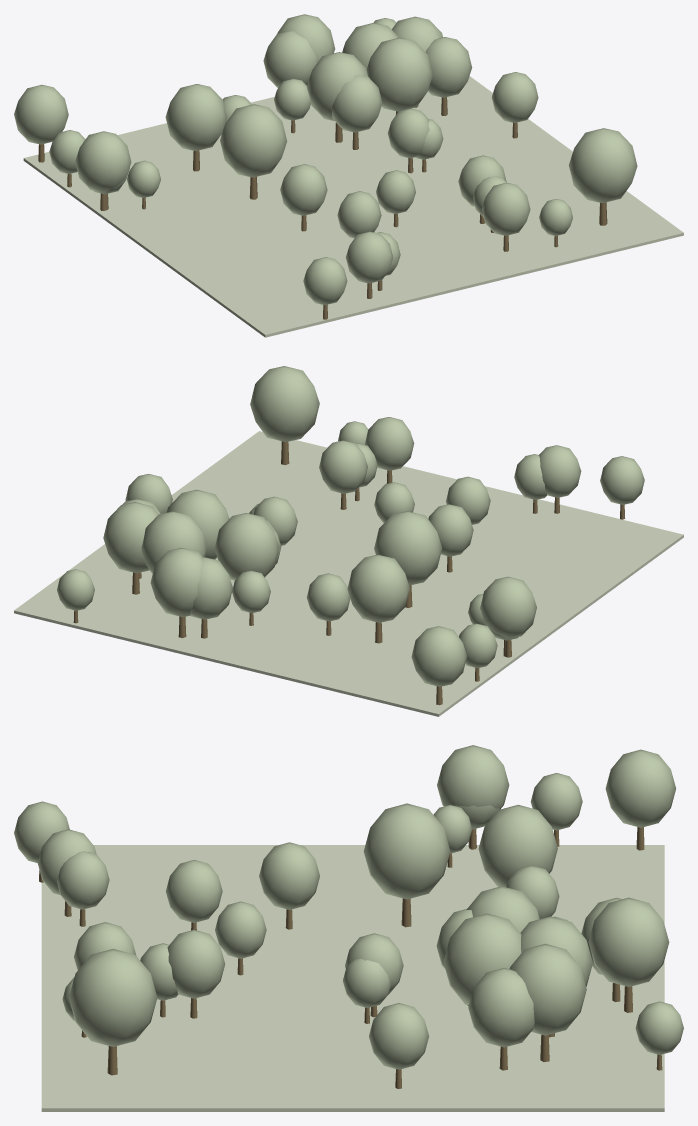
3 renders of one model, top to bottom at view 1: azimuth 30°, elevation 25°; view 2: azimuth 150°, elevation 25°; view 3: azimuth 270°, elevation 25°, orthographic. The views are drawn at different scales.
Visible parts, largest first — view 1: terrain, lod-near-20, lod-near-2, lod-near-6, lod-near-15, lod-near-27, lod-near-9, lod-near-7, lod-near-26, lod-near-0, lod-near-18, lod-near-25 (+17 smaller); view 2: terrain, lod-near-20, lod-near-2, lod-near-15, lod-near-7, lod-near-3, lod-near-27, lod-near-13, lod-near-9, lod-near-14, lod-near-31, lod-near-25 (+15 smaller); view 3: terrain, lod-near-20, lod-near-2, lod-near-3, lod-near-13, lod-near-15, lod-near-6, lod-near-9, lod-near-18, lod-near-27, lod-near-23, lod-near-11 (+18 smaller).
Part boxes in pixels (box(x1,y1,x2,y2)): terrain: box(23, 76, 683, 337); lod-near-20: box(568, 128, 637, 202); lod-near-2: box(220, 104, 287, 177); lod-near-6: box(366, 37, 432, 111); lod-near-15: box(165, 84, 226, 150); lod-near-27: box(75, 131, 131, 192); lod-near-9: box(14, 84, 68, 144); lod-near-7: box(307, 52, 367, 120); lod-near-26: box(263, 31, 316, 87); lod-near-0: box(331, 75, 382, 132); lod-near-18: box(425, 37, 472, 97); lod-near-25: box(482, 182, 530, 235); terrain: box(14, 431, 683, 716); lod-near-20: box(250, 366, 319, 441); lod-near-2: box(374, 511, 442, 585); lod-near-15: box(347, 554, 409, 622); lod-near-7: box(214, 513, 279, 580); lod-near-3: box(150, 548, 202, 616); lod-near-27: box(480, 576, 536, 638); lod-near-13: box(103, 502, 158, 573); lod-near-9: box(411, 626, 466, 686); lod-near-14: box(141, 511, 207, 573); lod-near-31: box(319, 440, 367, 493); lod-near-25: box(365, 417, 414, 470); terrain: box(41, 845, 664, 1111); lod-near-20: box(69, 949, 157, 1046); lod-near-2: box(363, 803, 450, 899); lod-near-3: box(588, 897, 669, 986); lod-near-13: box(509, 943, 586, 1035); lod-near-15: box(478, 804, 557, 886); lod-near-6: box(443, 913, 521, 1005); lod-near-9: box(605, 749, 676, 827); lod-near-18: box(468, 968, 534, 1047); lod-near-27: box(437, 745, 509, 808); lod-near-23: box(259, 842, 319, 909); lod-near-11: box(369, 1003, 429, 1069).
Size of the model in its own units: 33.44 by 7.19 by 34.42.
